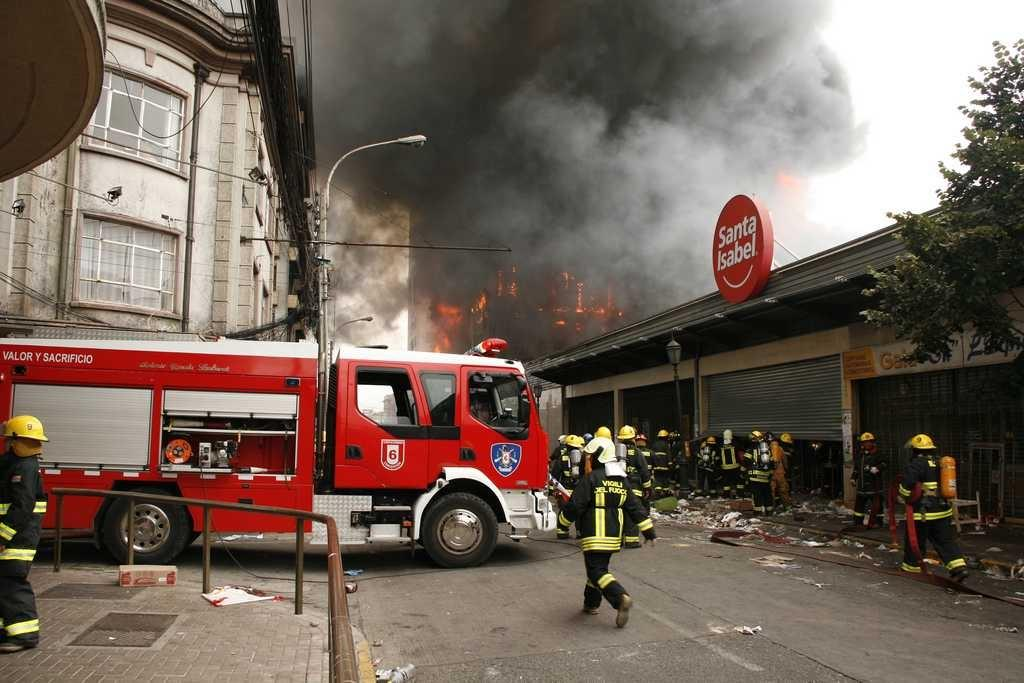fire: (442, 273, 610, 352)
smoke: (335, 7, 795, 195)
